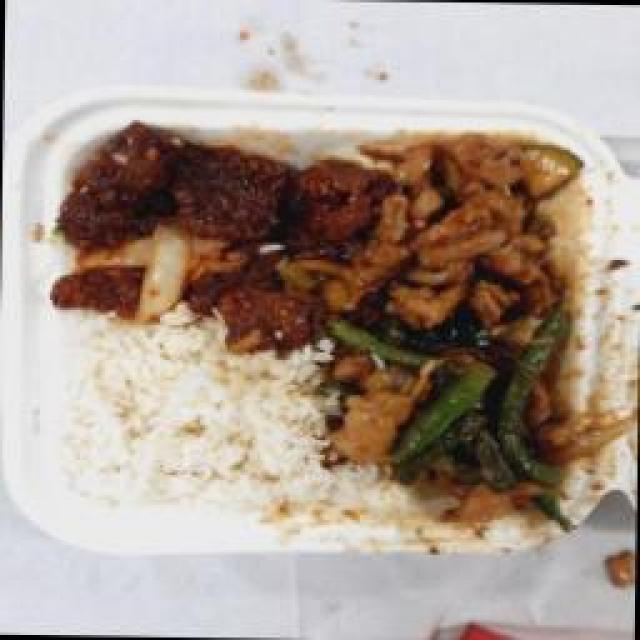Beijing Beef: (50, 123, 358, 336)
Kung Pao Chicken: (323, 128, 588, 351)
String Bean Chicken Breast: (340, 332, 573, 520)
White Steamed Rice: (65, 327, 325, 515)
